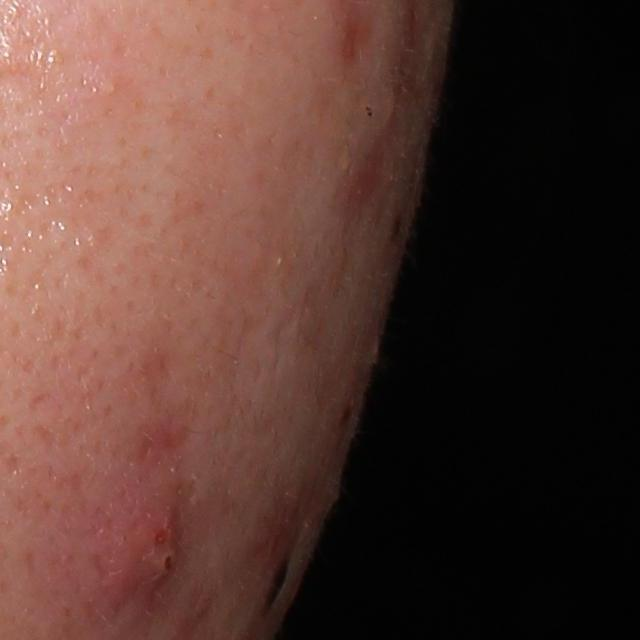nevus: (263, 552, 290, 618)
nodule: (95, 473, 187, 617)
